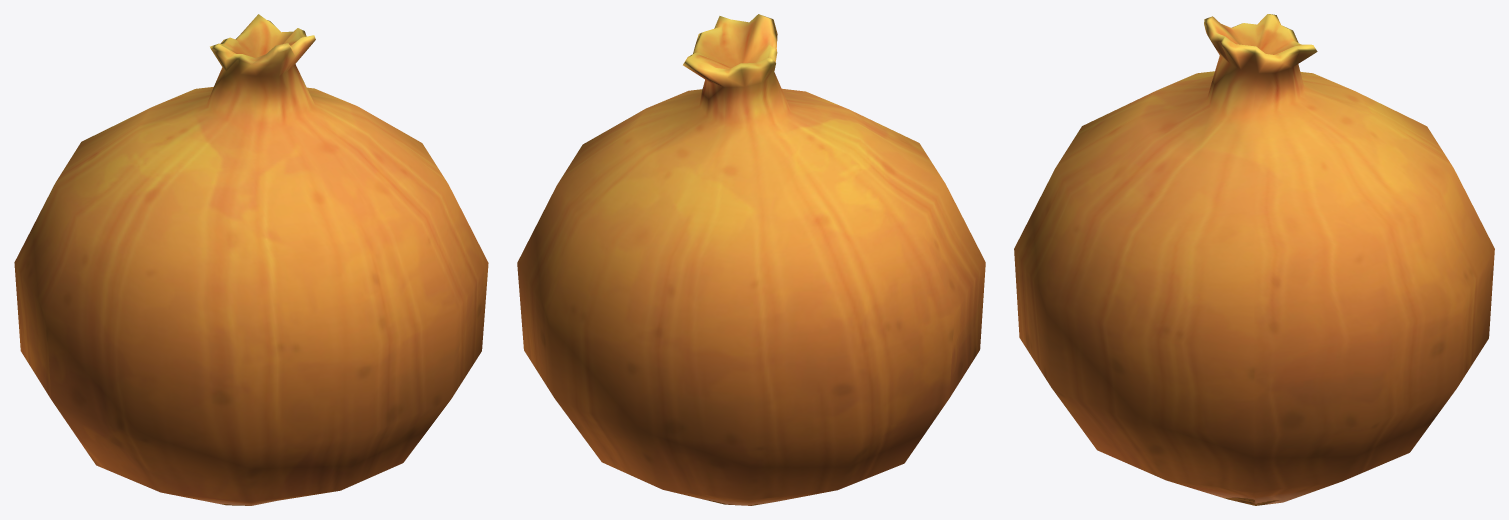
Rendered from sogan.fbx.
The picture shows the model from 3 angles, left to right: view 1: azimuth 30°, elevation 25°; view 2: azimuth 150°, elevation 25°; view 3: azimuth 270°, elevation 25°; orthographic projection. The views are drawn at different scales.
Visible parts, largest first — view 1: sogan; view 2: sogan; view 3: sogan.
Boxes of the visible parts, <box> form: sogan: <box>14,14,488,505</box>; sogan: <box>517,14,985,505</box>; sogan: <box>1014,14,1494,505</box>.
Bounding box in the file's own units: 16.59 × 17.88 × 16.57.
